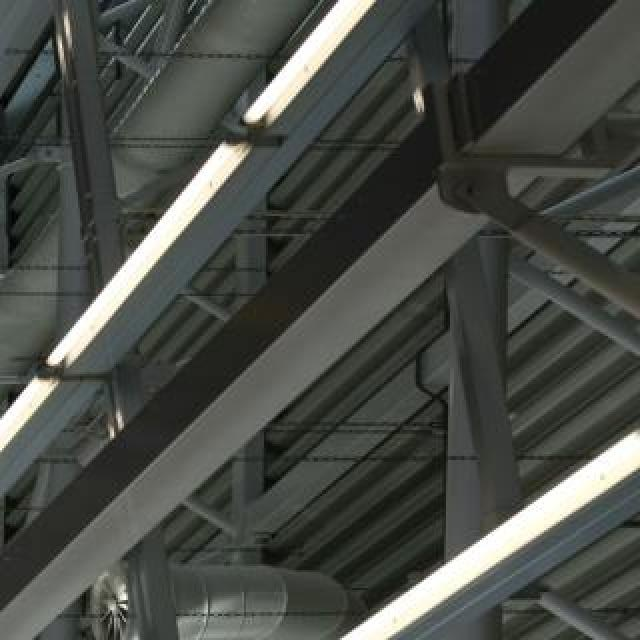fluorescent tube: (298, 376, 640, 640), (16, 127, 280, 382), (195, 0, 387, 175), (0, 328, 100, 554), (0, 0, 32, 194), (92, 636, 340, 640)
